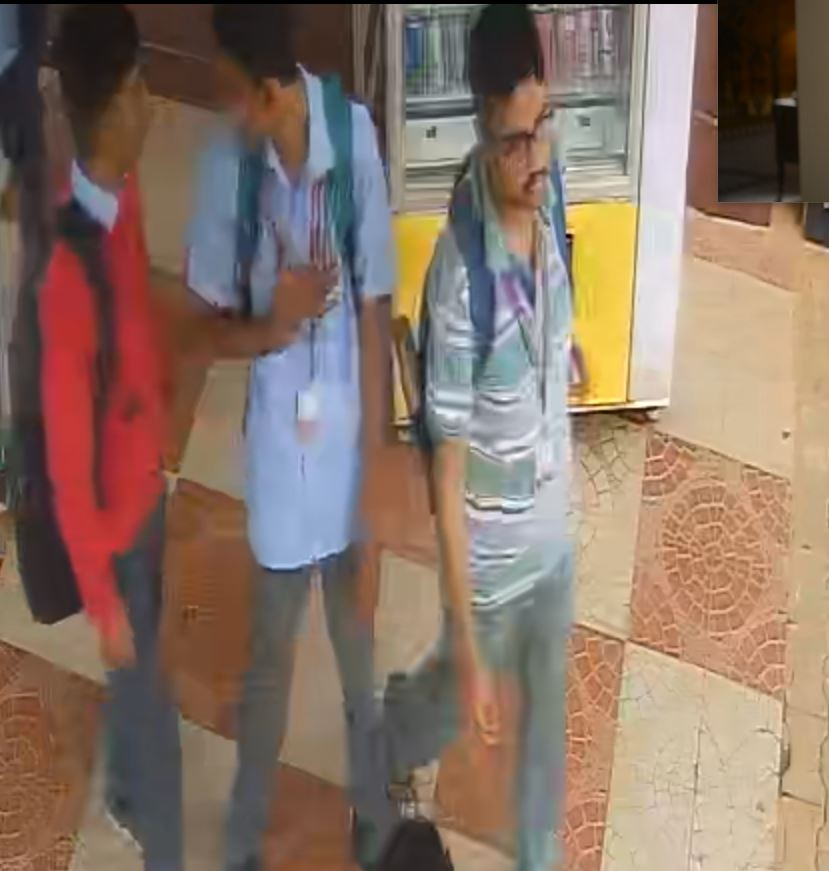intruder: (183, 4, 411, 865), (412, 1, 582, 862)
not intruder: (4, 5, 169, 871)
